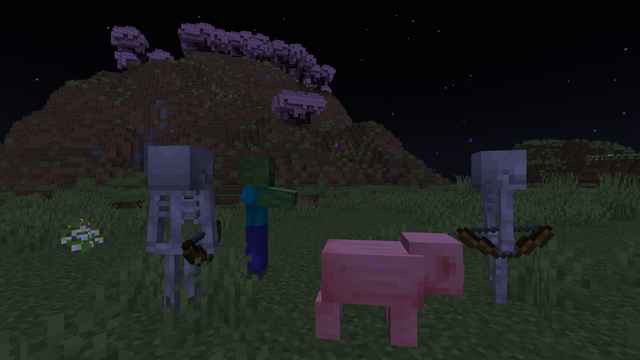cochons: (318, 233, 431, 355)
squelettes: (146, 145, 210, 332), (461, 149, 534, 310)
zombies: (238, 158, 277, 282)
